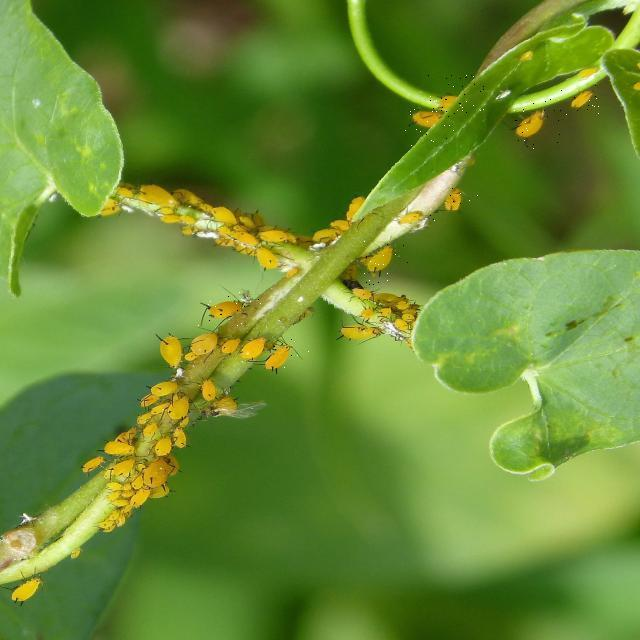aphid: (502, 98, 565, 150), (254, 334, 314, 386), (193, 292, 265, 326), (402, 105, 458, 146), (427, 75, 487, 113), (428, 184, 478, 225), (363, 241, 408, 285), (234, 331, 274, 372), (552, 85, 603, 116)
